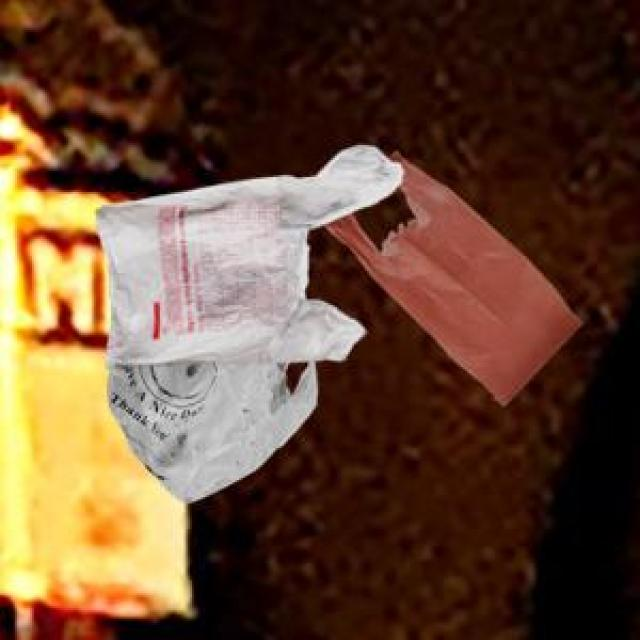plastic: (51, 136, 593, 524)
